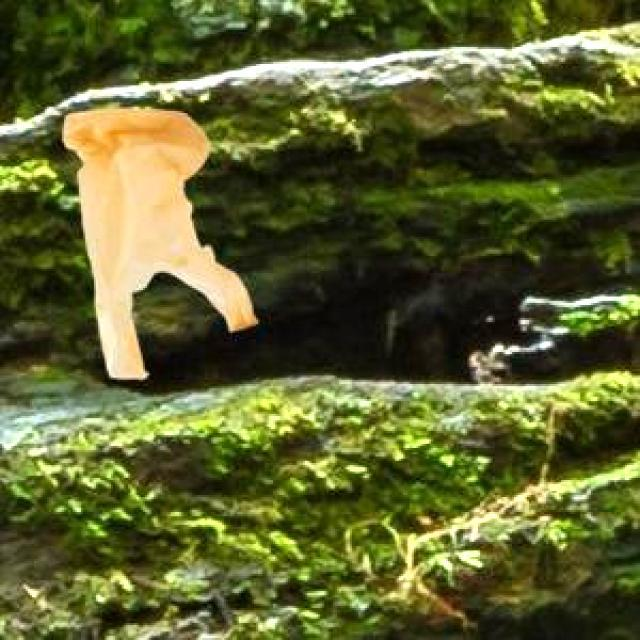Plastic_Bag: (61, 106, 255, 377)
